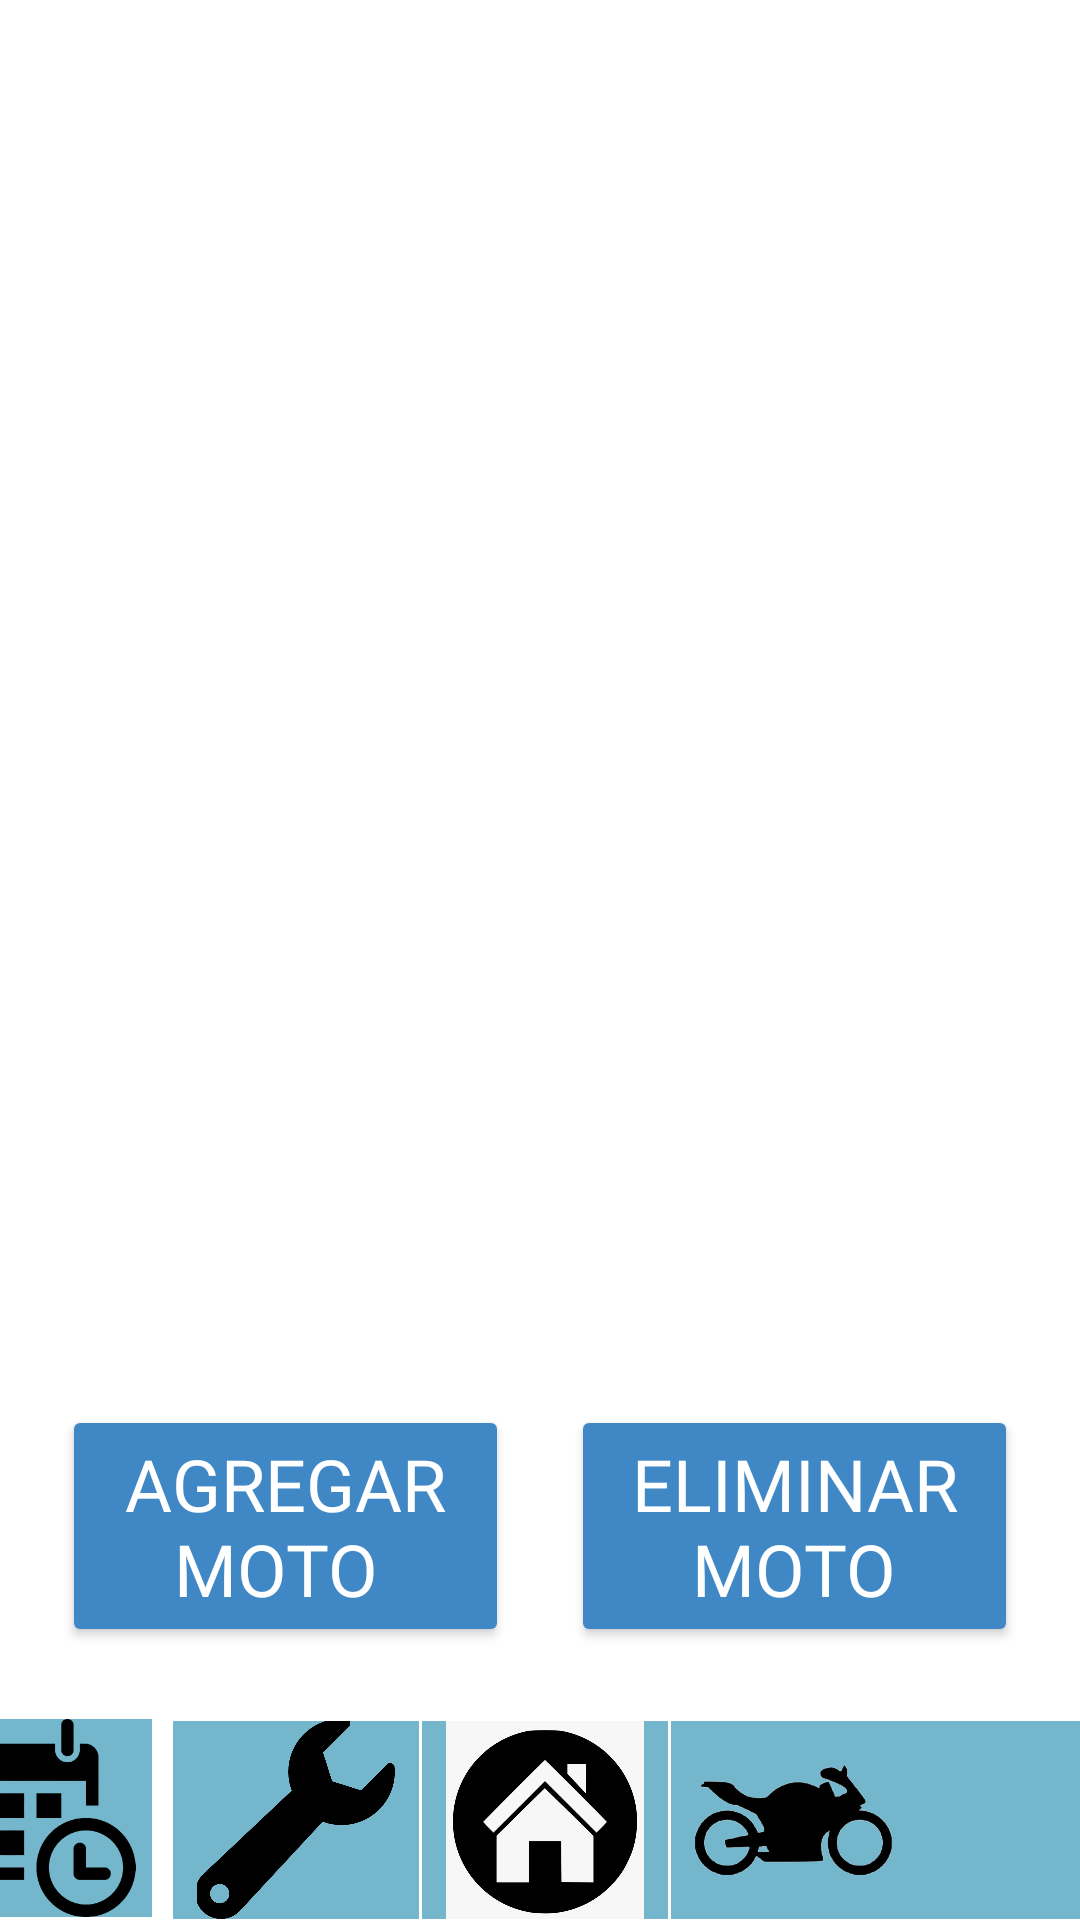

Icons on this 1080*1920 Android screen, each with its box as {"left": x1, "top": y1, "right": x2, "bottom": y2}:
homer: {"left": 422, "top": 1721, "right": 668, "bottom": 1919}
llaver: {"left": 173, "top": 1721, "right": 419, "bottom": 1919}
motors: {"left": 695, "top": 1765, "right": 892, "bottom": 1875}
